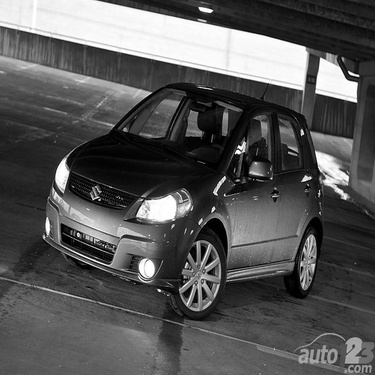car: (37, 76, 326, 322)
